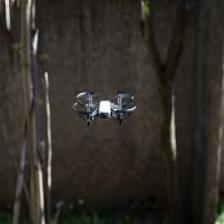drone: (72, 90, 138, 126)
